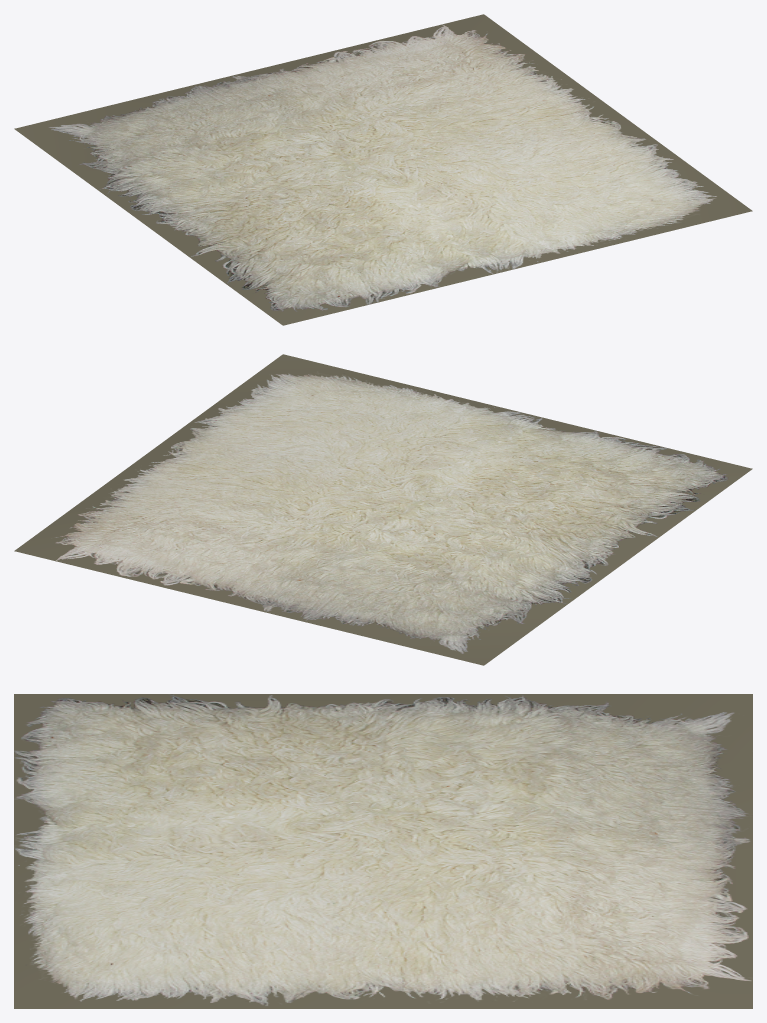
File: Flokati.obj
3 renders of one model, top to bottom at view 1: azimuth 30°, elevation 25°; view 2: azimuth 150°, elevation 25°; view 3: azimuth 270°, elevation 25°, orthographic. The views are drawn at different scales.
Parts seen in each view (by area): view 1: flokati01; view 2: flokati01; view 3: flokati01.
Part boxes in pixels (left/top/right/bottom): flokati01: left=14, top=14, right=752, bottom=325; flokati01: left=14, top=354, right=752, bottom=665; flokati01: left=14, top=694, right=752, bottom=1008.
Bounding box in the file's own units: 1.18 × 0.0332 × 1.17.
1 material, 1 textured.
